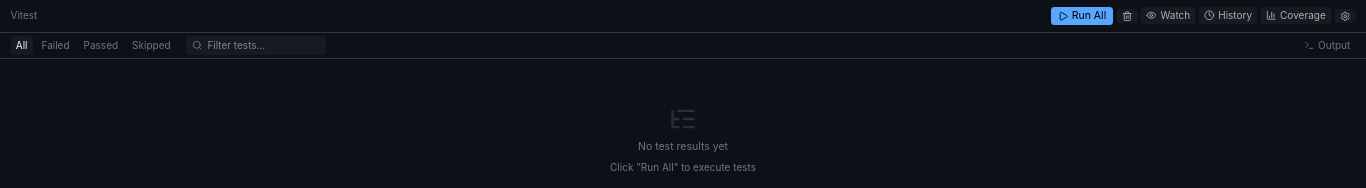
Test: TestRunnerPanel › shows history records when history is non-empty
Click the button "History": coordinates (1228, 16) [1199, 7, 1257, 24]
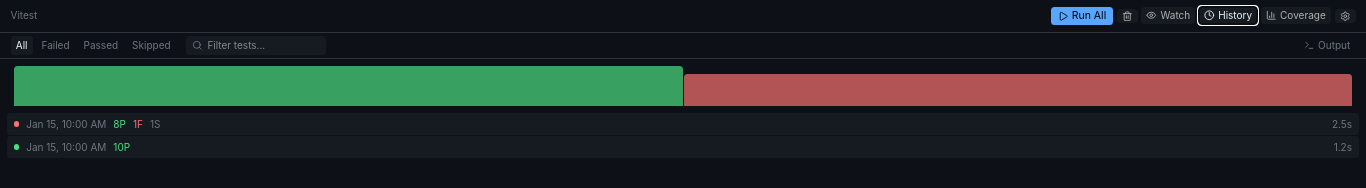
Check: the text "8P" is shown, box [113, 116, 126, 132]
Check: the text "1F" is shown, box [133, 116, 143, 132]
Check: the text "1S" is shown, box [150, 116, 160, 132]
